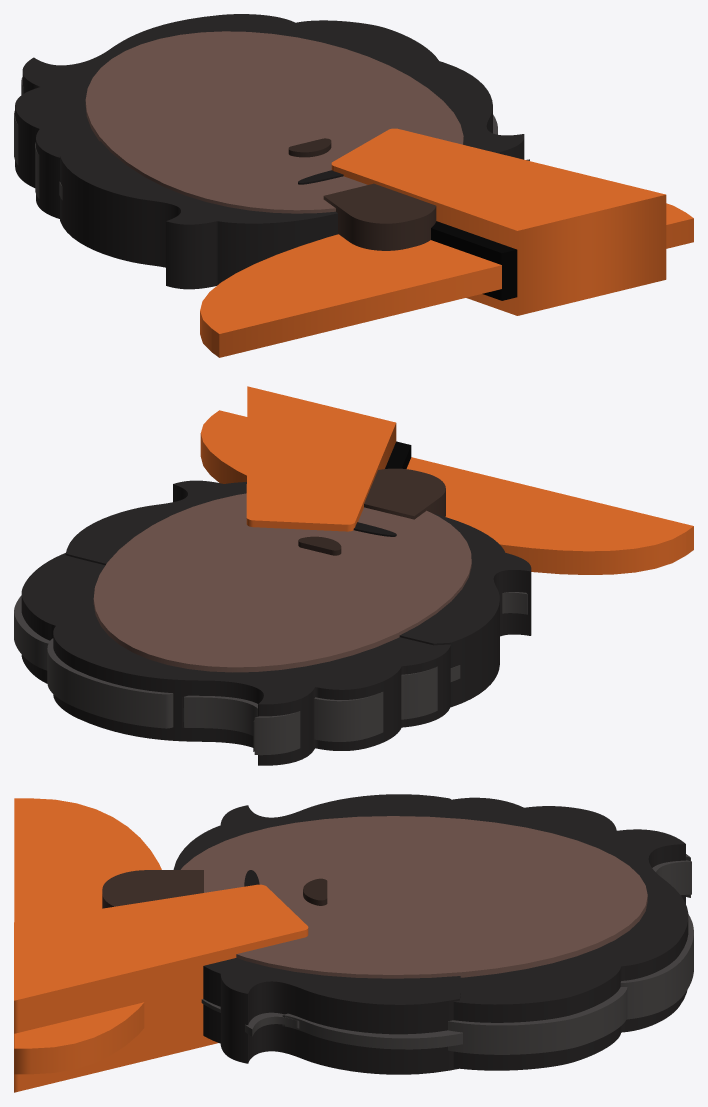
Rendered from emoji_u1f926_1f3ff.glb.
The picture shows the model from 3 angles, top to bottom: view 1: azimuth 30°, elevation 25°; view 2: azimuth 150°, elevation 25°; view 3: azimuth 270°, elevation 25°; orthographic projection. The views are drawn at different scales.
Visible parts, largest first — view 1: emoji_u1f926_1f3ff; view 2: emoji_u1f926_1f3ff; view 3: emoji_u1f926_1f3ff.
Boxes of the visible parts, x1=… form: emoji_u1f926_1f3ff: x1=14, y1=14, x2=693, y2=357; emoji_u1f926_1f3ff: x1=14, y1=386, x2=693, y2=765; emoji_u1f926_1f3ff: x1=14, y1=794, x2=693, y2=1092.
Size of the model in its own units: 0.0292 by 0.005 by 0.0335.
